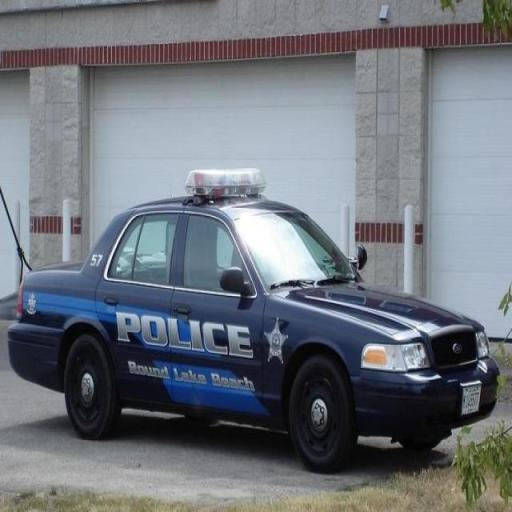Ambulance: (16, 168, 498, 474)
